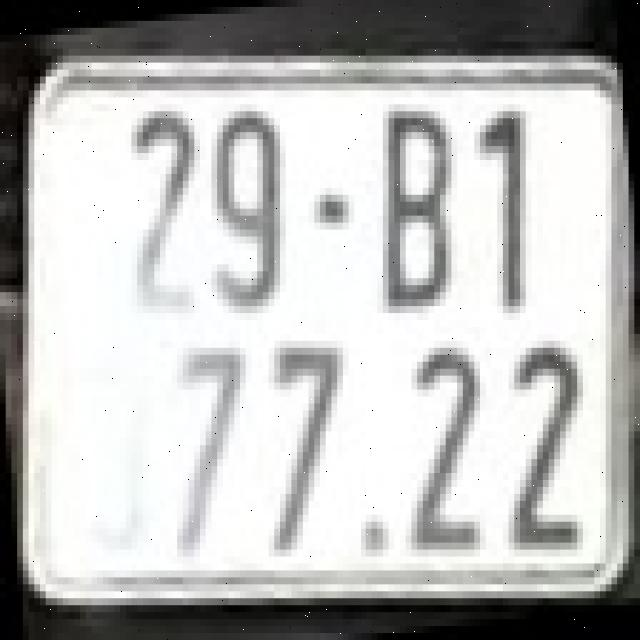1: (477, 101, 534, 309)
2: (126, 104, 200, 313), (408, 344, 483, 546), (508, 344, 583, 546)
7: (166, 344, 246, 553), (268, 337, 343, 553)
9: (208, 104, 283, 306)
B: (380, 104, 454, 313)
